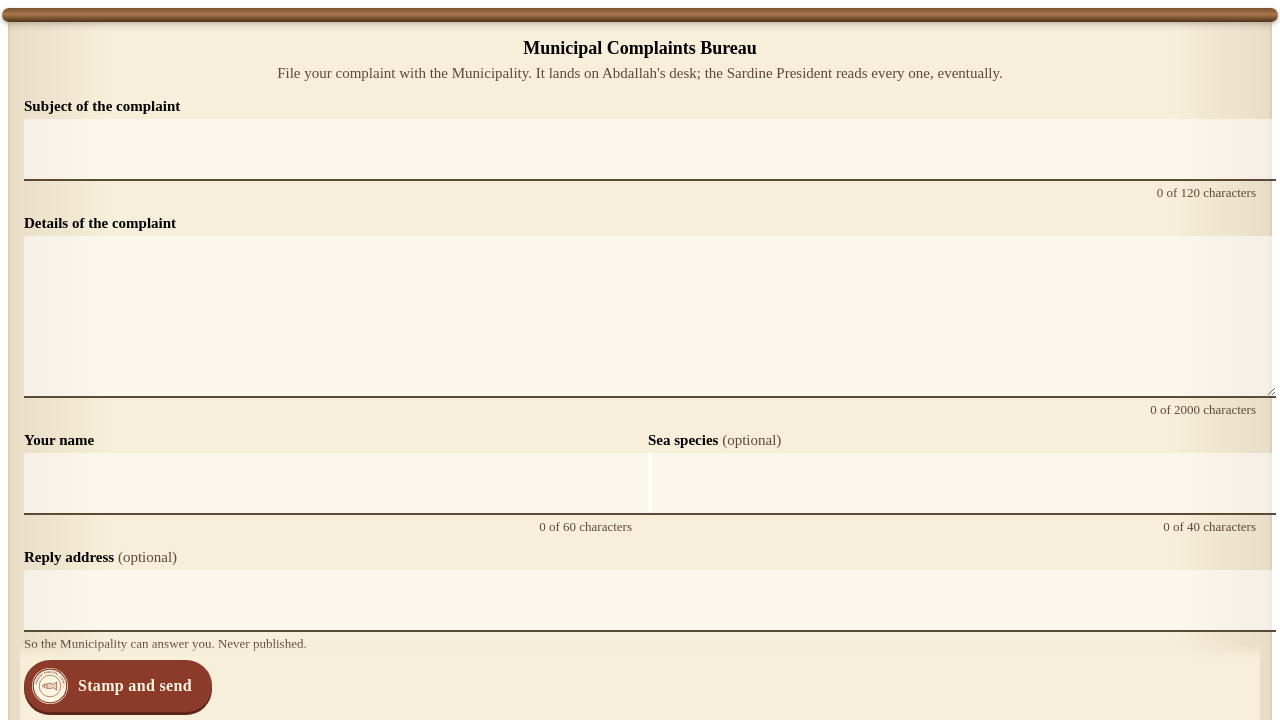
it: ComplaintScroll › refuses a malformed reply address and a hidden control character
In the field labelled "Subject of the complaint": (650, 150) [24,119,1276,181], type "Request for web development services"
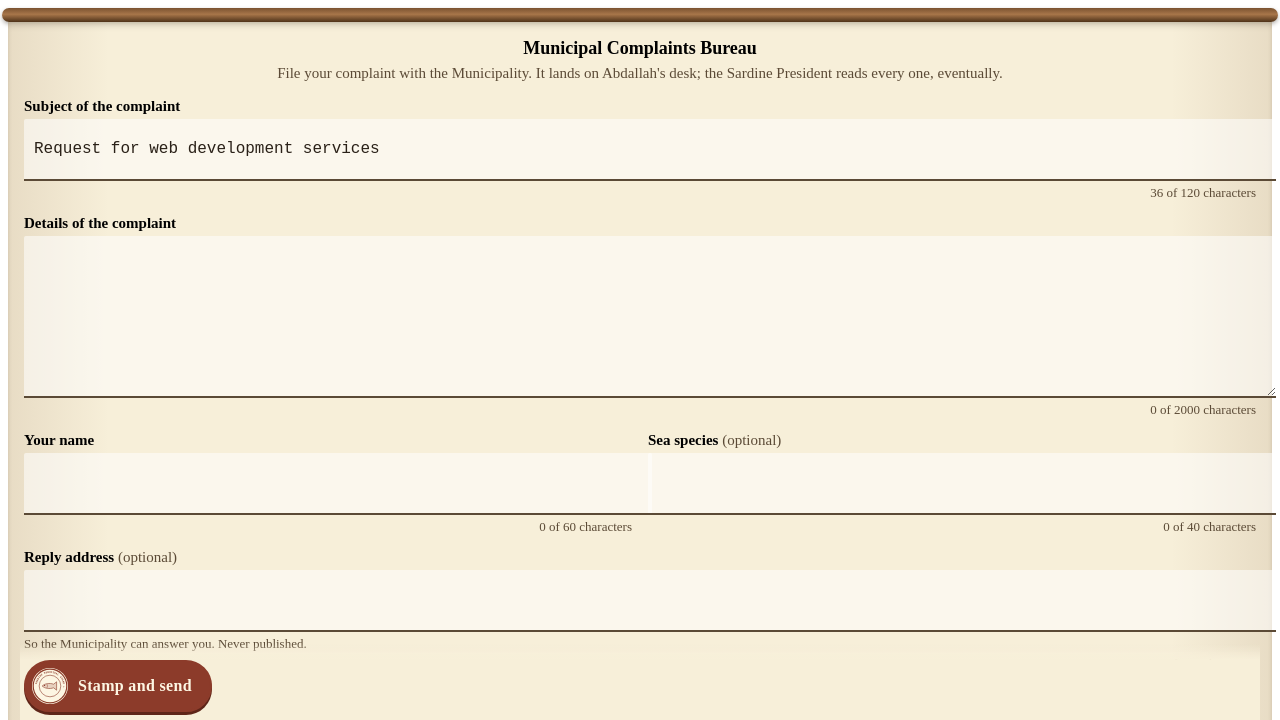
In the text box labelled "Details of the complaint": (650, 317) [24,236,1276,398], type "The pineapple leaks. Please send a developer."
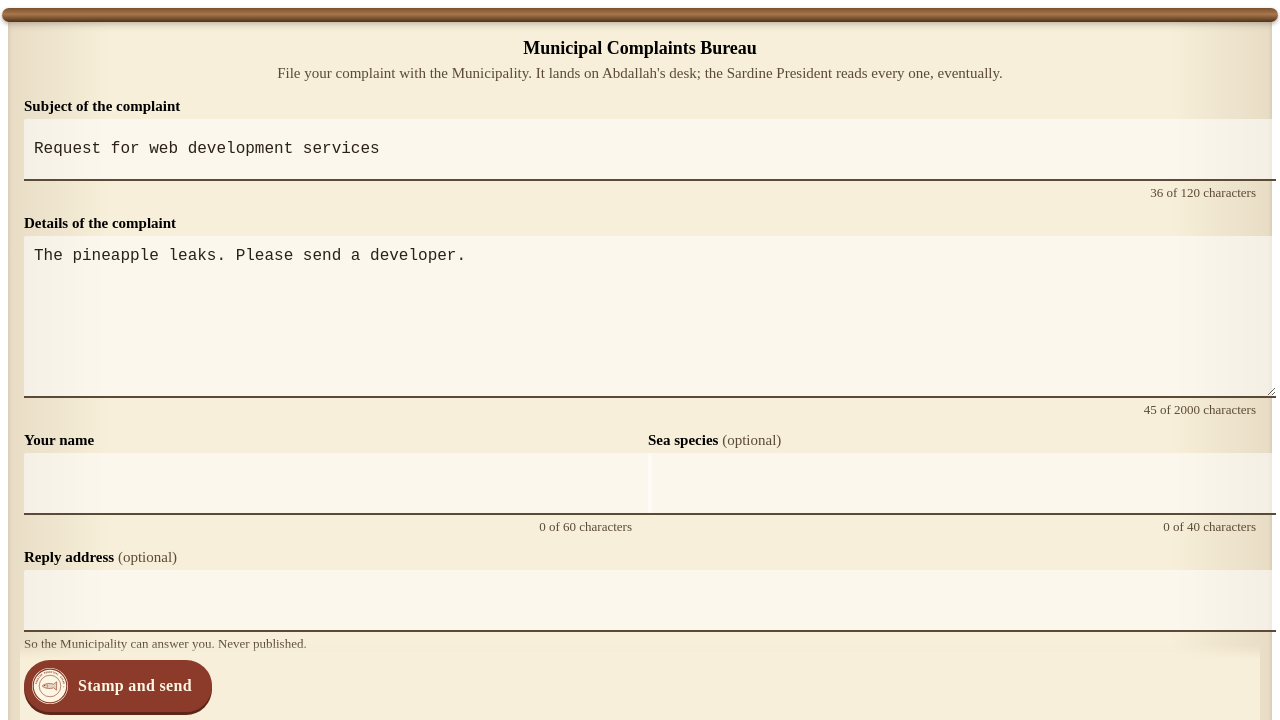
In the field labelled "Your name": (338, 484) [24,453,652,515], type "Sardine Sam"
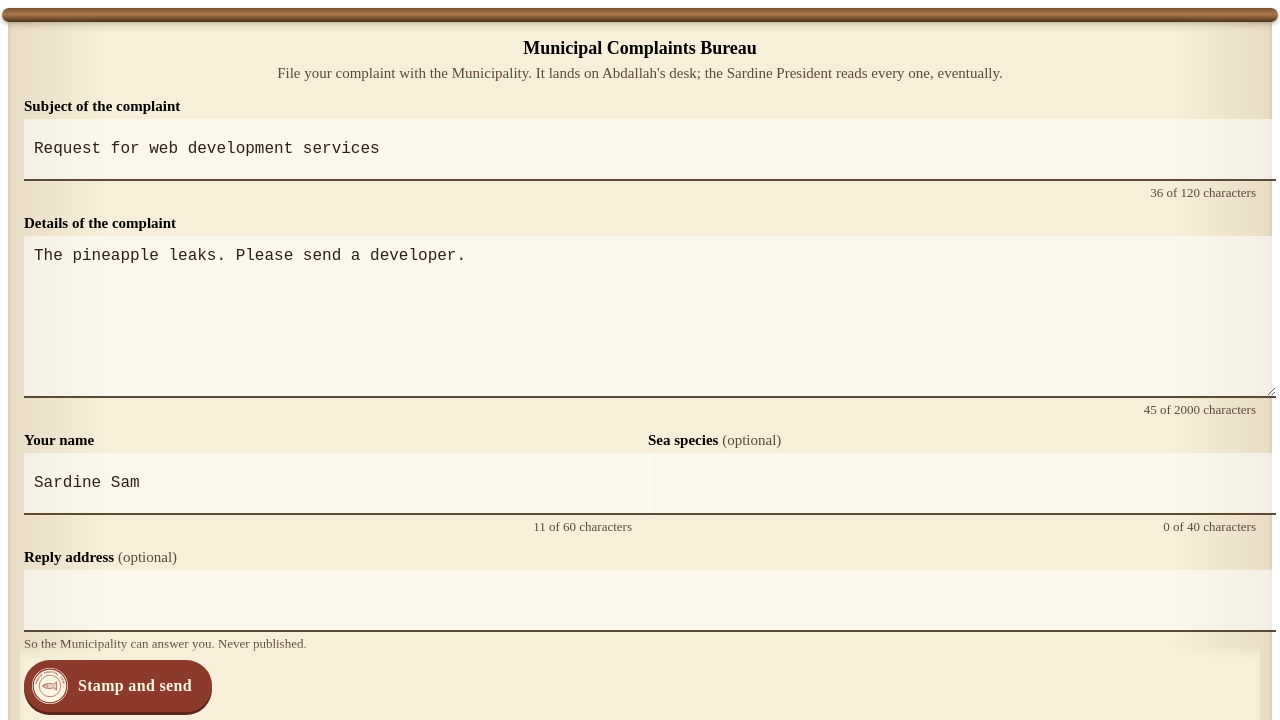
In the field labelled "Reply address (optional)": (650, 601) [24,570,1276,632], type "sam@"
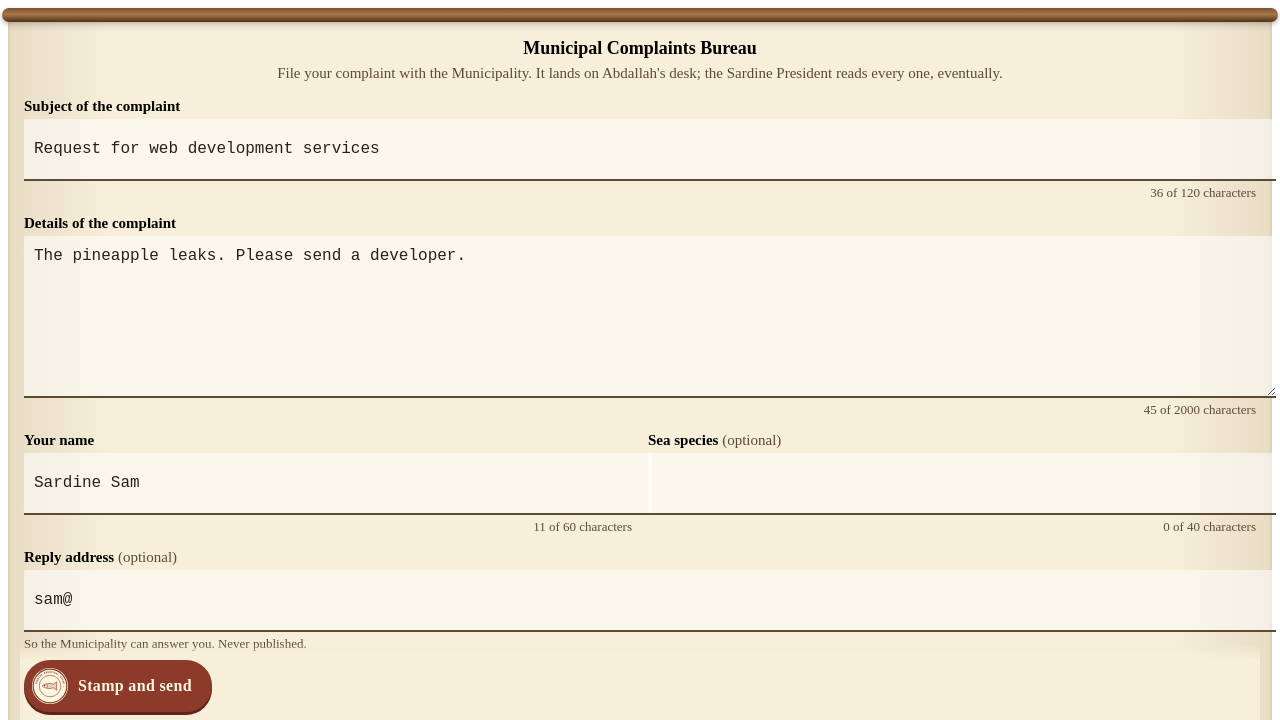
Replace the text in the field labelled "Your name" with "Sam ": (338, 484) [24,453,652,515]
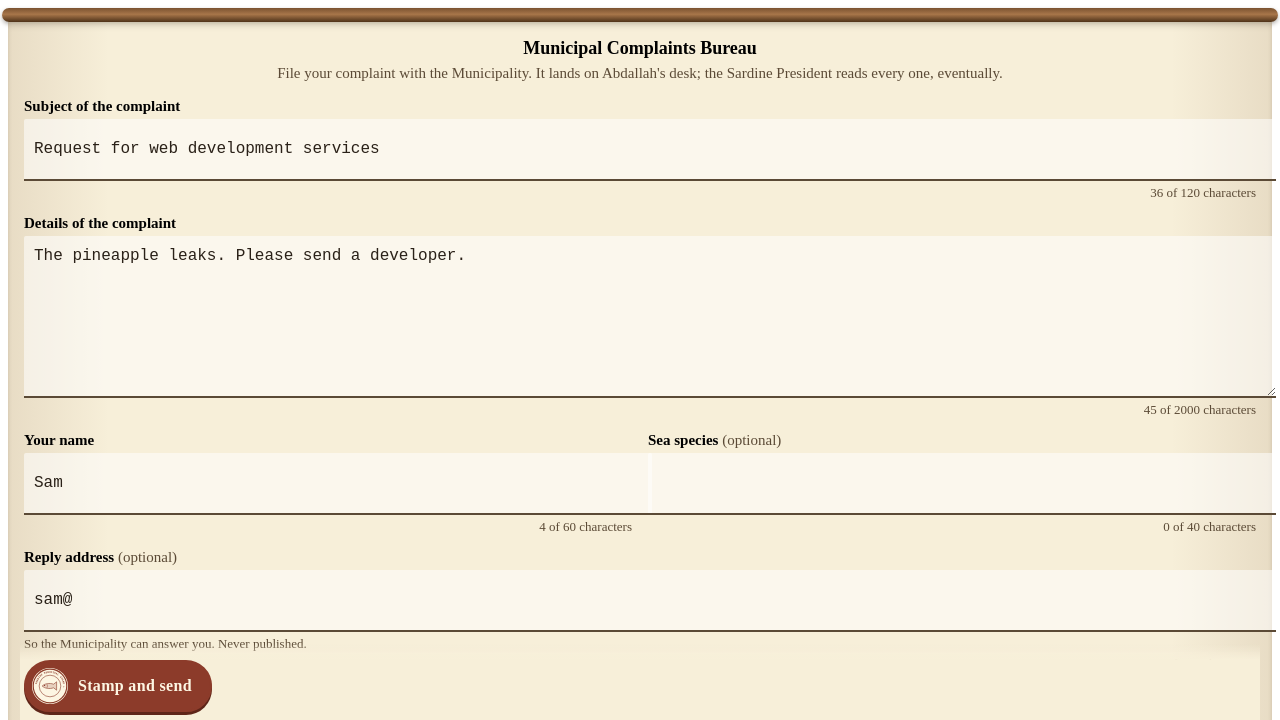
Click the button "Stamp and send": (118, 686) [24,660,212,712]
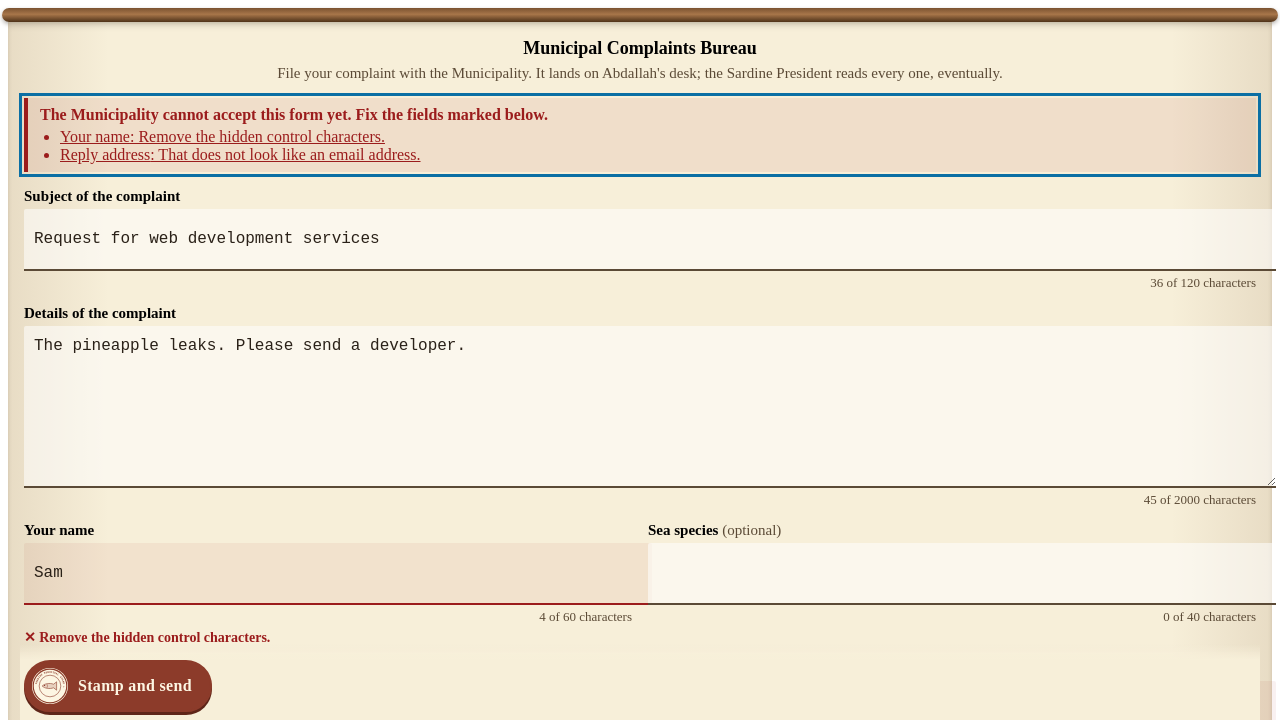
Expected: the text "Remove the hidden control characters." is shown, [39,630,270,645]
